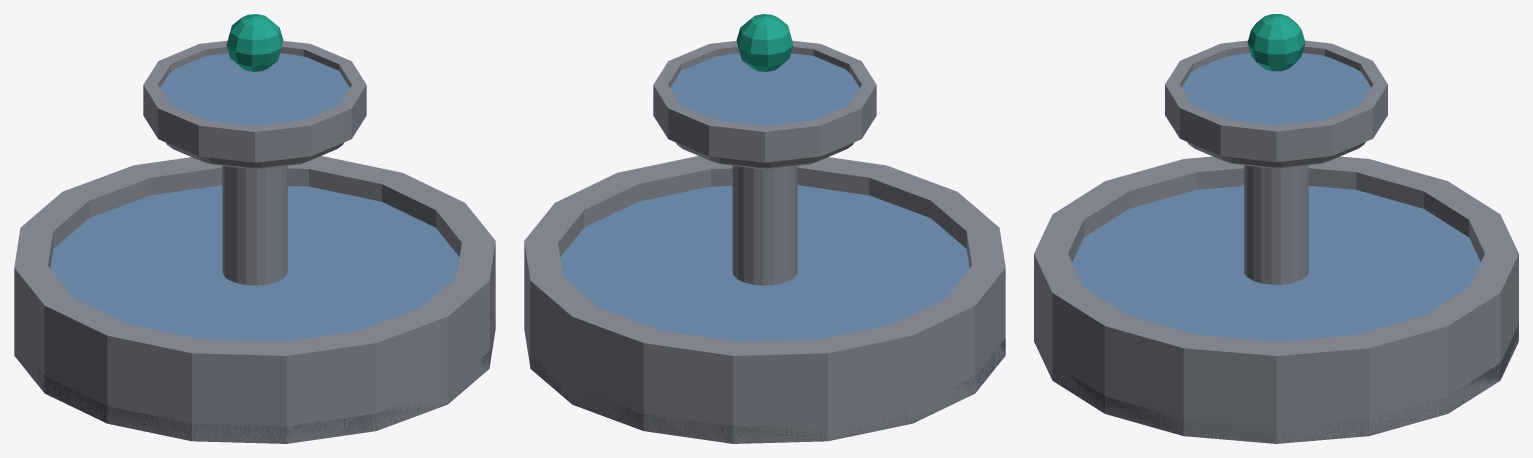
The model's file is CatCafe_Park_Fountain.fbx.
3 views of the same model, side by side, from view 1: azimuth 30°, elevation 25°; view 2: azimuth 150°, elevation 25°; view 3: azimuth 270°, elevation 25° (orthographic).
Visible parts, largest first — view 1: CatCafe_Park_Fountain_Basin, CatCafe_Park_Fountain_Water; view 2: CatCafe_Park_Fountain_Basin, CatCafe_Park_Fountain_Water; view 3: CatCafe_Park_Fountain_Basin, CatCafe_Park_Fountain_Water.
Boxes of the visible parts, bbox=[...] form: CatCafe_Park_Fountain_Basin: bbox=[14, 14, 495, 443]; CatCafe_Park_Fountain_Water: bbox=[50, 53, 459, 341]; CatCafe_Park_Fountain_Basin: bbox=[524, 14, 1005, 443]; CatCafe_Park_Fountain_Water: bbox=[560, 53, 969, 341]; CatCafe_Park_Fountain_Basin: bbox=[1034, 14, 1518, 443]; CatCafe_Park_Fountain_Water: bbox=[1072, 53, 1480, 341].
Size of the model in its own units: 5 by 3.7 by 5.
1 material, 1 textured.
